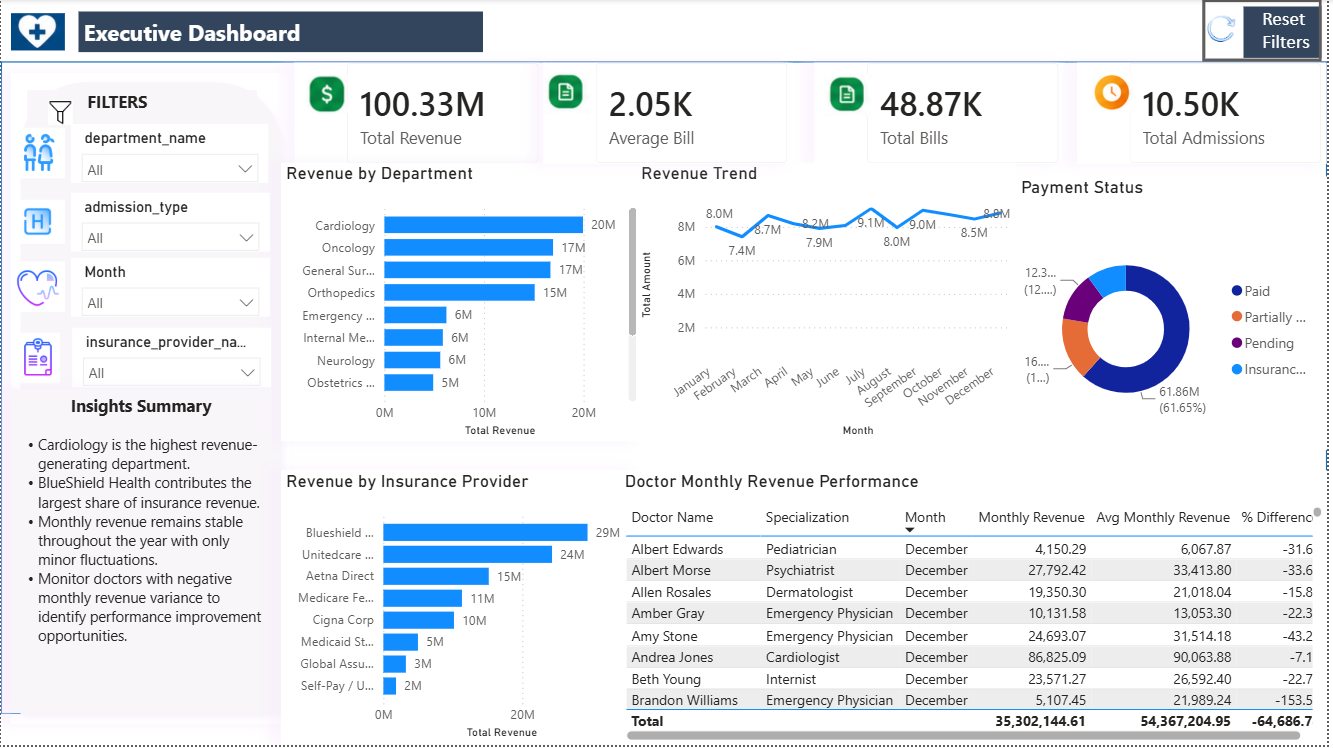

The dashboard page shown, as its layout file describes it:
{"tool":"powerbi","page":{"name":"Executive","canvas":[1280,720],"ordinal":1},"visuals":[{"type":"shape","box":[0,60.7,1279.8,629.8],"z":0},{"type":"cardVisual","fields":{"Data":["Sum(mart fact_billing.amount)"]},"box":[283.5,61.5,240.5,97.6],"z":1000},{"type":"cardVisual","fields":{"Data":["Avg(mart fact_billing.amount)"]},"box":[684.1,238.9,240.5,97.6],"z":2000},{"type":"cardVisual","fields":{"Data":["CountNonNull(mart fact_billing.amount)"]},"box":[785.4,61.5,240.5,97.6],"z":3000},{"type":"cardVisual","fields":{"Data":["Sum(mart vw_admission_analysis.total_admissions)"]},"box":[1039.3,61.9,240.5,97.6],"z":4000},{"type":"shape","box":[10,70.7,270.2,628.6],"z":5000},{"type":"clusteredBarChart","title":"Revenue by Department","fields":{"Category":["mart vw_department_financial_summary.department_name"],"Y":["Sum(mart vw_department_financial_summary.total_revenue)"]},"box":[270.2,158,348.7,269],"z":6000},{"type":"lineChart","title":"Revenue Trend","fields":{"Category":["mart fact_billing.billing_date.Variation.Date Hierarchy.Month"],"Y":["Sum(mart fact_billing.amount)"]},"box":[612.9,158,366.8,269],"z":7000},{"type":"textbox","box":[25,88.1,221.4,32.1],"z":8000},{"type":"slicer","fields":{"Values":["mart fact_admissions.admission_type"]},"box":[67.9,186.9,191.7,57.1],"z":9000},{"type":"slicer","fields":{"Values":["mart dim_departments.department_name"]},"box":[67.9,120.2,190.5,57.1],"z":10000},{"type":"slicer","fields":{"Values":["mart fact_billing.billing_date.Variation.Date Hierarchy.Month"]},"box":[67.9,250,191.7,57.1],"z":11000},{"type":"slicer","fields":{"Values":["mart vw_insurance_summary.insurance_provider_name"]},"box":[68.8,317.3,191.8,57.9],"z":12000},{"type":"image","box":[9.5,123.8,52.4,48.8],"z":13000},{"type":"image","box":[9.5,190.5,52.4,48.8],"z":14000},{"type":"image","box":[9.5,253.6,52.4,48.8],"z":15000},{"type":"image","box":[9.5,322.6,52.4,48.8],"z":16000},{"type":"image","box":[35,98.1,45.2,23.8],"z":17000},{"type":"image","box":[9.5,11.9,52.4,48.8],"z":18000},{"type":"textbox","box":[75,11.9,390.5,39.3],"z":19000},{"type":"actionButton","title":"Reset Filters","box":[1199.7,6.7,75.2,49.7],"z":20000},{"type":"image","box":[1159,0,36.2,57],"z":21000},{"type":"textbox","box":[1120,688,160,32],"z":22000},{"type":"actionButton","box":[1159.4,0,115.5,60.5],"z":23000},{"type":"image","box":[1050,72.6,46.4,36.9],"z":25000},{"type":"image","box":[542.9,72.6,46.4,36.9],"z":27000},{"type":"textbox","box":[9.5,376.2,251.2,313.1],"z":28000},{"type":"clusteredBarChart","title":"Revenue by Insurance Provider","fields":{"Category":["mart vw_insurance_summary.insurance_provider_name"],"Y":["Sum(mart vw_insurance_summary.total_revenue)"]},"box":[270.2,454.8,345,264.2],"z":29000},{"type":"tableEx","title":"Doctor Monthly Revenue Performance","fields":{"Values":["mart vw_doctor_revenue_analysis.doctor_name","mart vw_doctor_revenue_analysis.specialization","mart vw_doctor_revenue_analysis.billing_month.Variation.Date Hierarchy.Month","Sum(mart vw_doctor_revenue_analysis.monthly_revenue)","Sum(mart vw_doctor_revenue_analysis.avg_monthly_revenue)","Sum(mart vw_doctor_revenue_analysis.percentage_difference)"]},"box":[597.2,454.8,682.8,265.4],"z":30000},{"type":"donutChart","title":"Payment Status","fields":{"Category":["mart fact_billing.payment_status"],"Y":["Sum(mart fact_billing.amount)"]},"box":[979.6,171.3,300.4,264.2],"z":31000},{"type":"cardVisual","fields":{"Data":["Avg(mart fact_billing.amount)"]},"box":[523.6,61.5,240.5,97.6],"z":32000},{"type":"image","box":[283.5,73.6,62.7,37.4],"z":32002},{"type":"image","box":[523.6,66.4,44.6,48.3],"z":32003},{"type":"image","box":[795,68.8,44.6,48.3],"z":32004}]}

Visuals, with their boxes in screenshot pixels (x1, y1, x2, y2), scaled from the page's 1280x720 canvas onto the 1333x748 screenshot:
shape: <box>0,63,1332,717</box>
cardVisual - Sum(mart fact_billing.amount): <box>295,64,546,165</box>
cardVisual - Avg(mart fact_billing.amount): <box>712,248,963,350</box>
cardVisual - CountNonNull(mart fact_billing.amount): <box>818,64,1068,165</box>
cardVisual - Sum(mart vw_admission_analysis.total_admissions): <box>1082,64,1332,166</box>
shape: <box>10,73,292,726</box>
"Revenue by Department" clusteredBarChart: <box>281,164,645,444</box>
"Revenue Trend" lineChart: <box>638,164,1020,444</box>
textbox: <box>26,92,257,125</box>
slicer - mart fact_admissions.admission_type: <box>71,194,270,253</box>
slicer - mart dim_departments.department_name: <box>71,125,269,184</box>
slicer - mart fact_billing.billing_date.Variation.Date Hierarchy.Month: <box>71,260,270,319</box>
slicer - mart vw_insurance_summary.insurance_provider_name: <box>72,330,271,390</box>
image: <box>10,129,64,179</box>
image: <box>10,198,64,249</box>
image: <box>10,263,64,314</box>
image: <box>10,335,64,386</box>
image: <box>36,102,84,127</box>
image: <box>10,12,64,63</box>
textbox: <box>78,12,485,53</box>
"Reset Filters" actionButton: <box>1249,7,1328,59</box>
image: <box>1207,0,1245,59</box>
textbox: <box>1166,715,1332,747</box>
actionButton: <box>1207,0,1328,63</box>
image: <box>1093,75,1142,114</box>
image: <box>565,75,614,114</box>
textbox: <box>10,391,271,716</box>
"Revenue by Insurance Provider" clusteredBarChart: <box>281,472,641,747</box>
"Doctor Monthly Revenue Performance" tableEx: <box>622,472,1332,747</box>
"Payment Status" donutChart: <box>1020,178,1332,452</box>
cardVisual - Avg(mart fact_billing.amount): <box>545,64,796,165</box>
image: <box>295,76,361,115</box>
image: <box>545,69,592,119</box>
image: <box>828,71,874,122</box>
